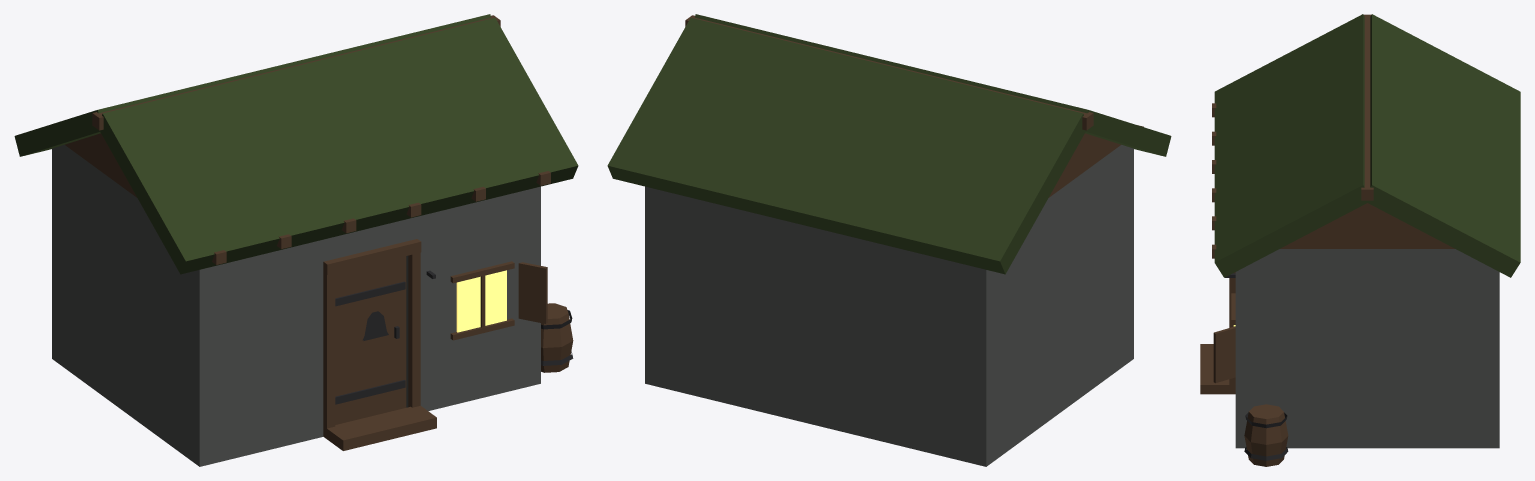
The model's file is barracks.glb.
3 renders of one model, left to right at view 1: azimuth 30°, elevation 25°; view 2: azimuth 150°, elevation 25°; view 3: azimuth 270°, elevation 25°, orthographic. The views are drawn at different scales.
Parts seen in each view (by area): view 1: Walls, Door, Window; view 2: Walls; view 3: Walls.
Part boxes in pixels (left/top/right/bottom): Walls: left=14, top=14, right=578, bottom=466; Door: left=335, top=256, right=406, bottom=424; Window: left=456, top=270, right=506, bottom=332; Walls: left=607, top=14, right=1171, bottom=466; Walls: left=1200, top=14, right=1520, bottom=466.
Bounding box in the file's own units: 4.9 × 3.44 × 3.64.
